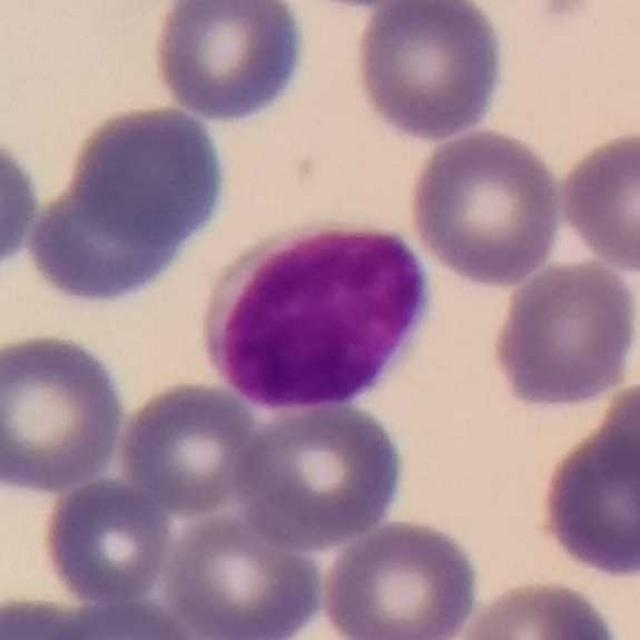Lymphocyte: (199, 214, 440, 415)
RBC: (22, 96, 233, 312), (230, 394, 408, 551), (405, 125, 567, 289), (487, 255, 639, 412), (350, 0, 508, 144), (160, 506, 328, 639), (0, 327, 130, 494), (114, 378, 268, 516), (317, 515, 484, 640), (146, 0, 310, 126), (534, 402, 640, 583), (37, 474, 176, 608), (554, 125, 640, 276), (454, 575, 626, 640), (23, 593, 207, 640), (592, 376, 640, 522), (0, 130, 43, 281), (0, 592, 99, 640)
